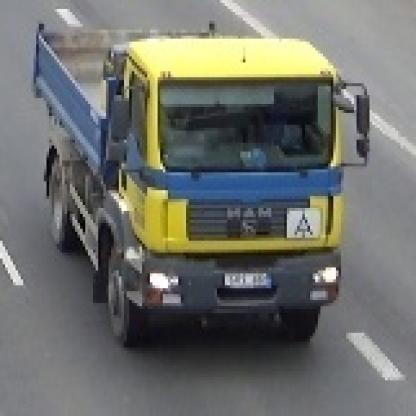truck: (30, 7, 371, 343)
